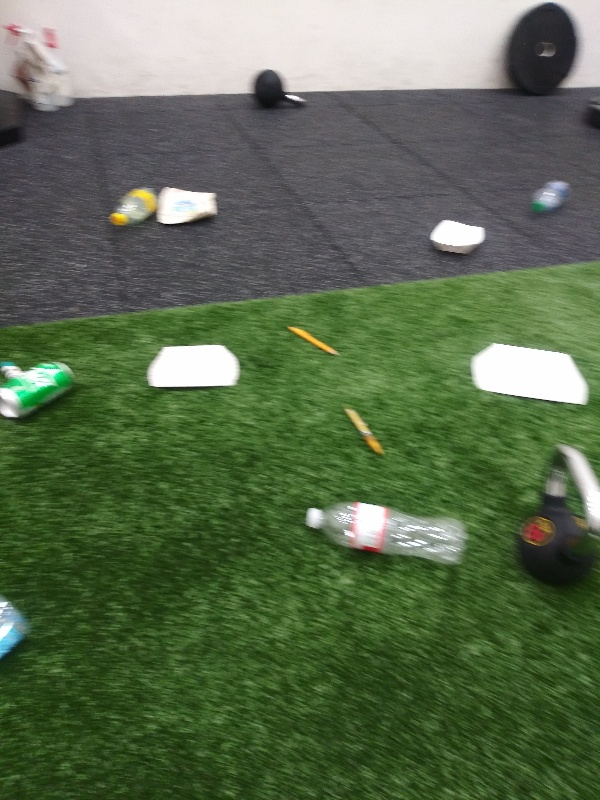bag: (153, 182, 222, 230)
bottle: (300, 494, 470, 575), (103, 178, 161, 230), (1, 589, 34, 674), (527, 179, 577, 219)
can: (1, 356, 77, 422)
plate: (466, 339, 589, 411), (142, 340, 245, 395), (424, 216, 492, 262)
